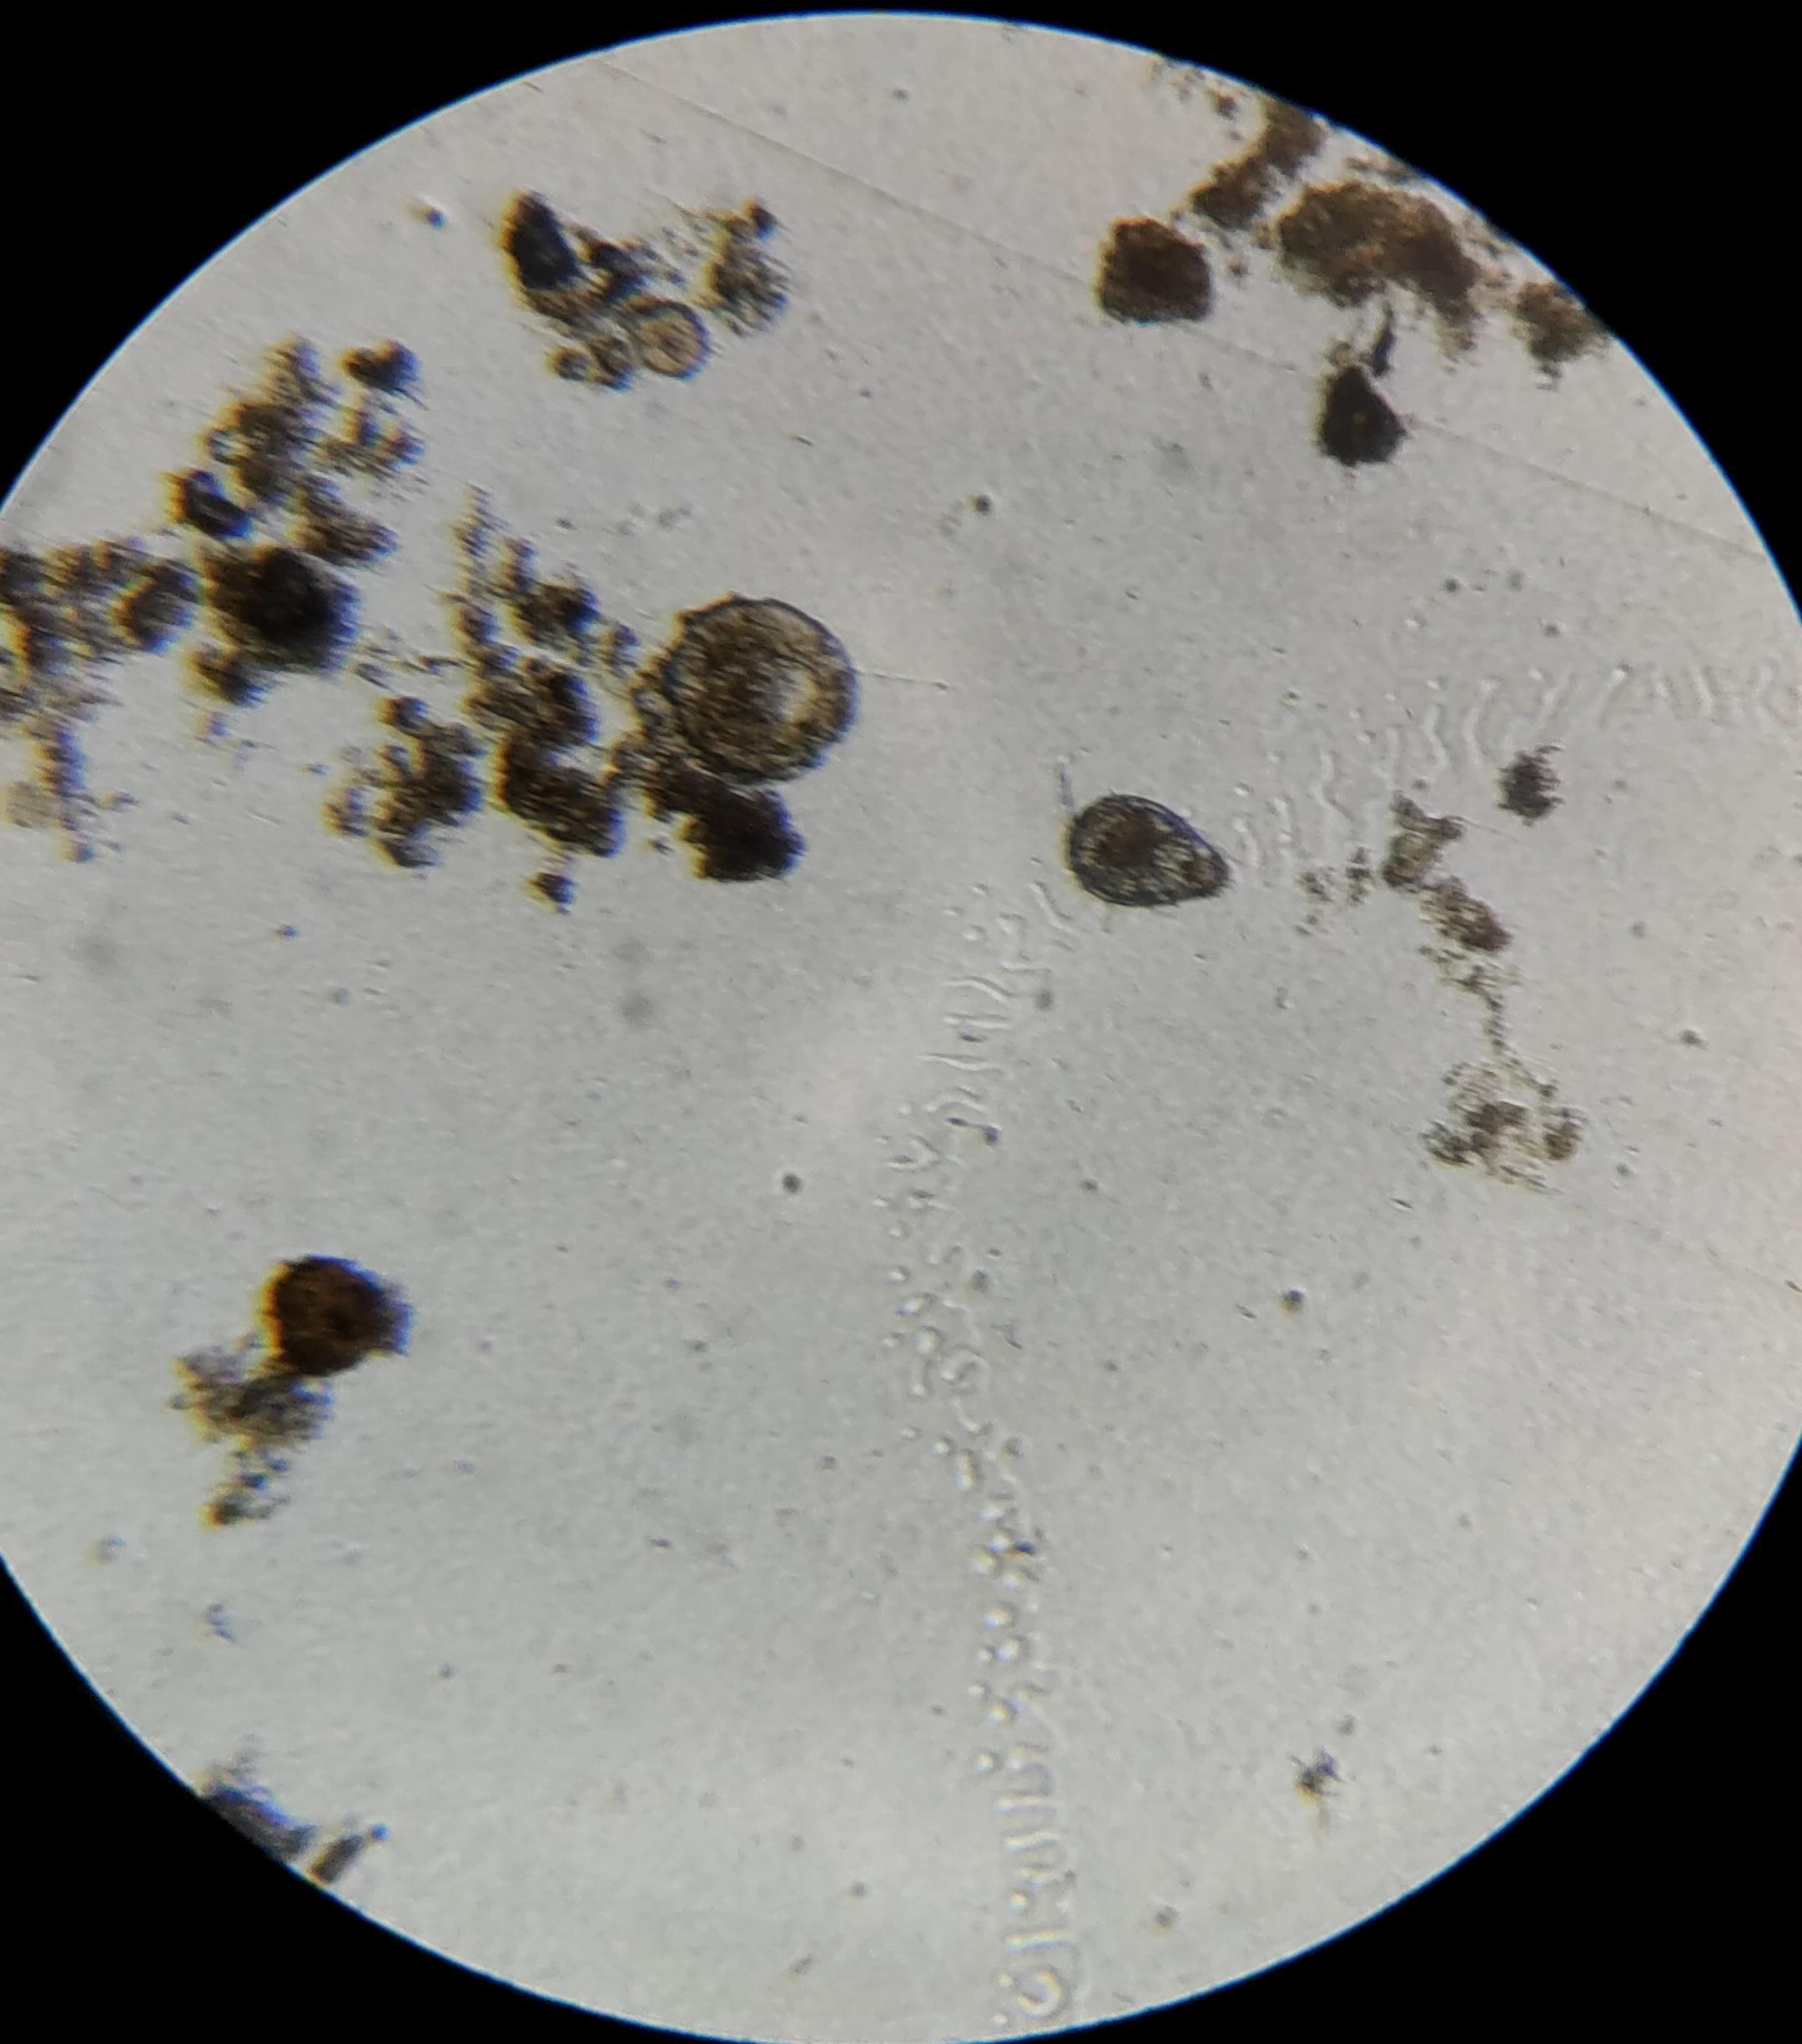Arcella: (670, 598, 851, 774)
Mo: (1058, 762, 1228, 906)
